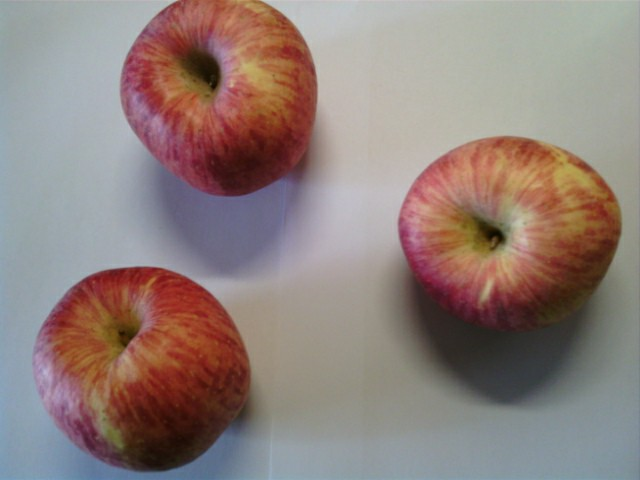normal_apple: (397, 136, 625, 333), (36, 267, 252, 474), (119, 3, 320, 199)
